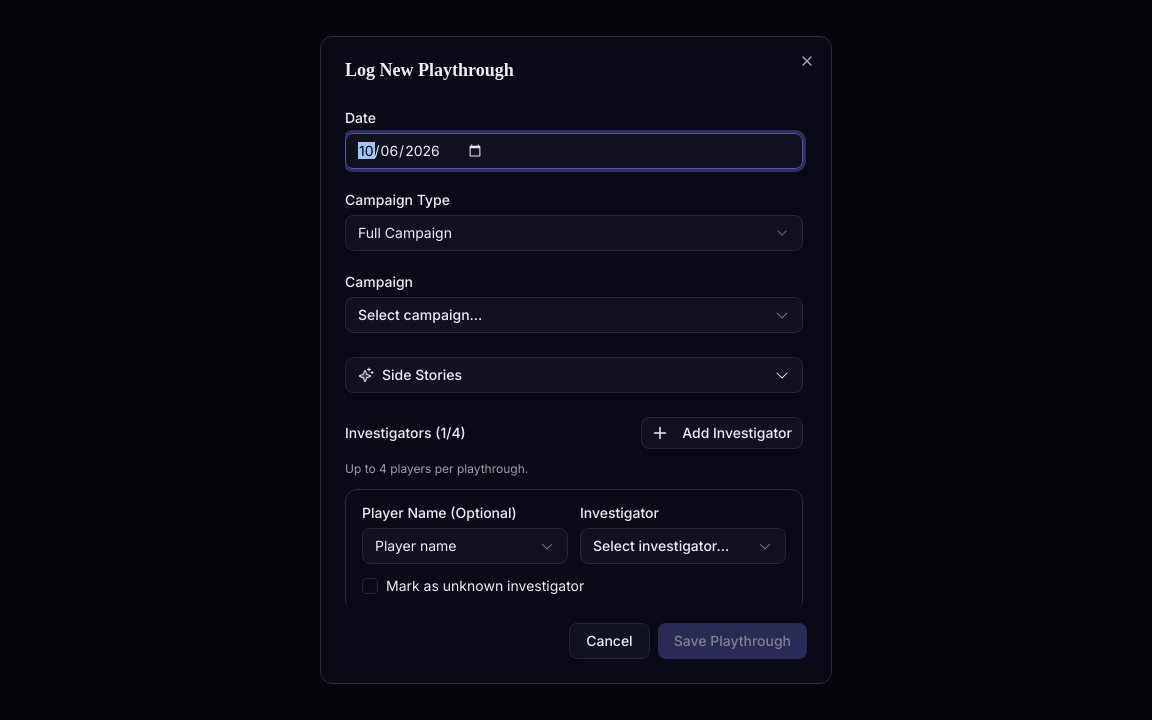
Test: PlaythroughForm player controls › prevents adding a fifth player and keeps remove controls visible
What coordinates should you click on to do the following:
click the button "Add Investigator"
I would click on:
 (722, 433)
Its box is [641, 417, 803, 449].
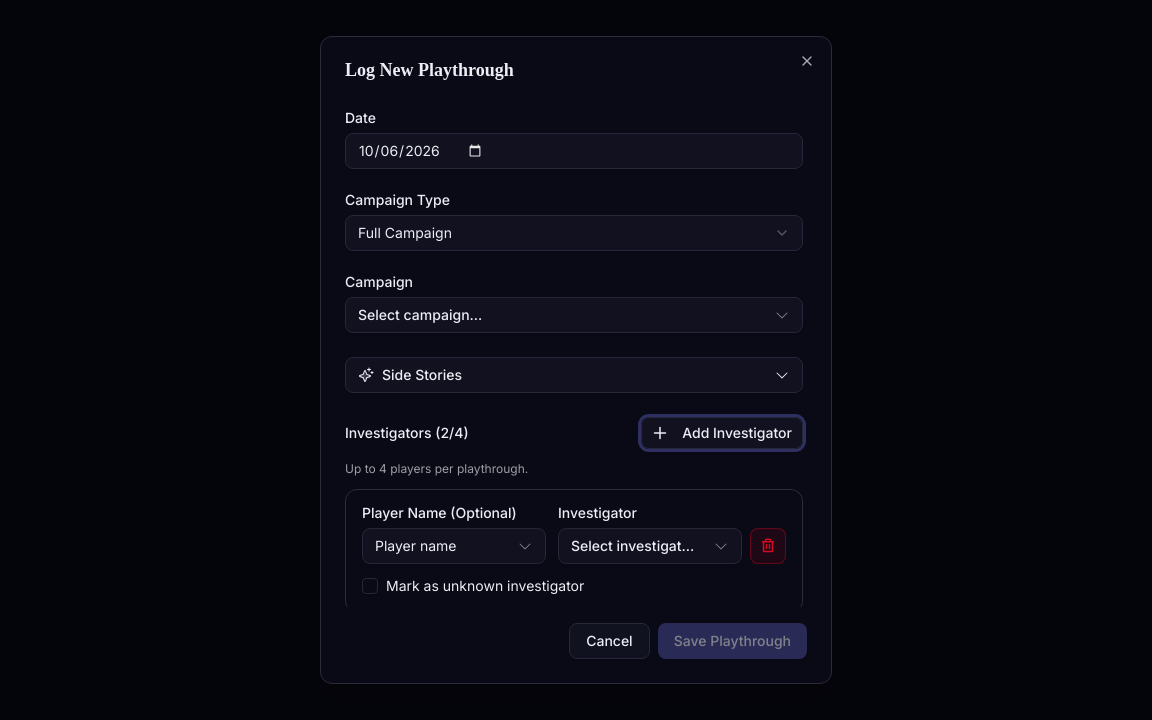
What coordinates should you click on to do the following:
click the button "Add Investigator"
I would click on:
 (722, 433)
Its box is [641, 417, 803, 449].
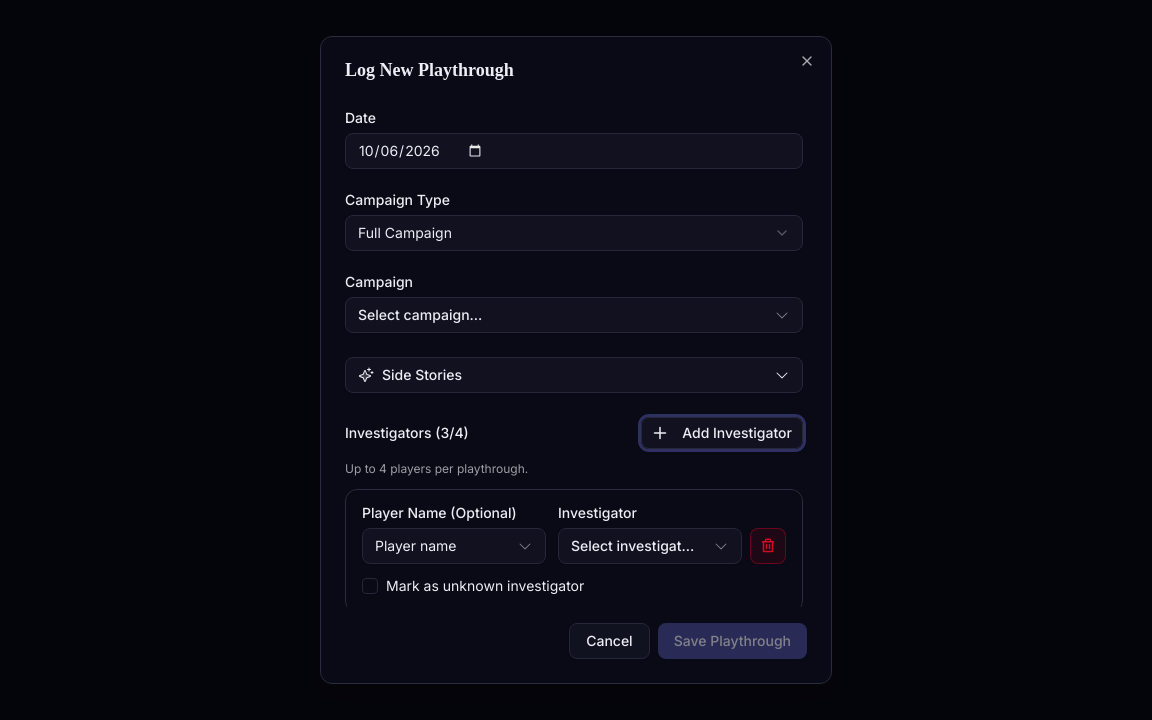
What coordinates should you click on to do the following:
click the button "Add Investigator"
I would click on:
 (722, 433)
Its box is [641, 417, 803, 449].
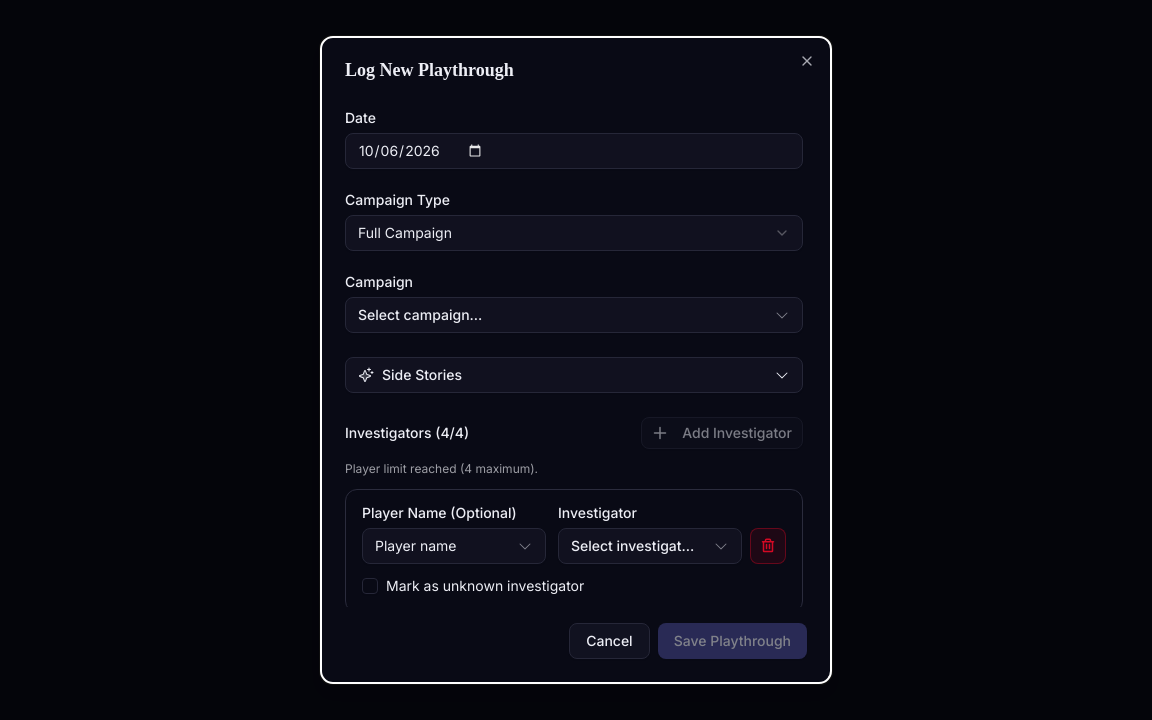
Now the button "Add Investigator" is disabled, box [641, 417, 803, 449]
Now the text "Player limit reached (4 maximum)." is shown, box [345, 461, 538, 476]
Now the text "Investigators (4/4)" is shown, box [345, 426, 469, 440]
What coordinates should you click on to do the following:
click the button named "Remove investigator 1"
I would click on:
 (768, 546)
Its box is [750, 528, 786, 564].
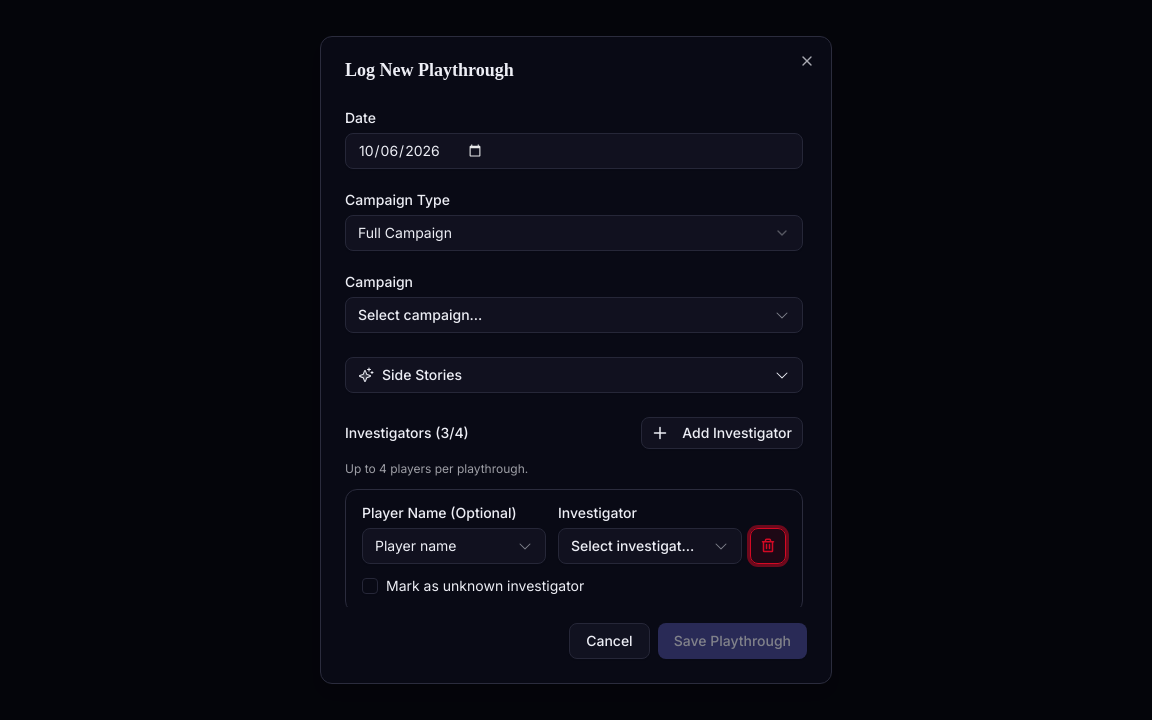
Now the button "Add Investigator" is enabled, box [641, 417, 803, 449]
Now the text "Up to 4 players per playthrough." is shown, box [345, 461, 528, 476]
